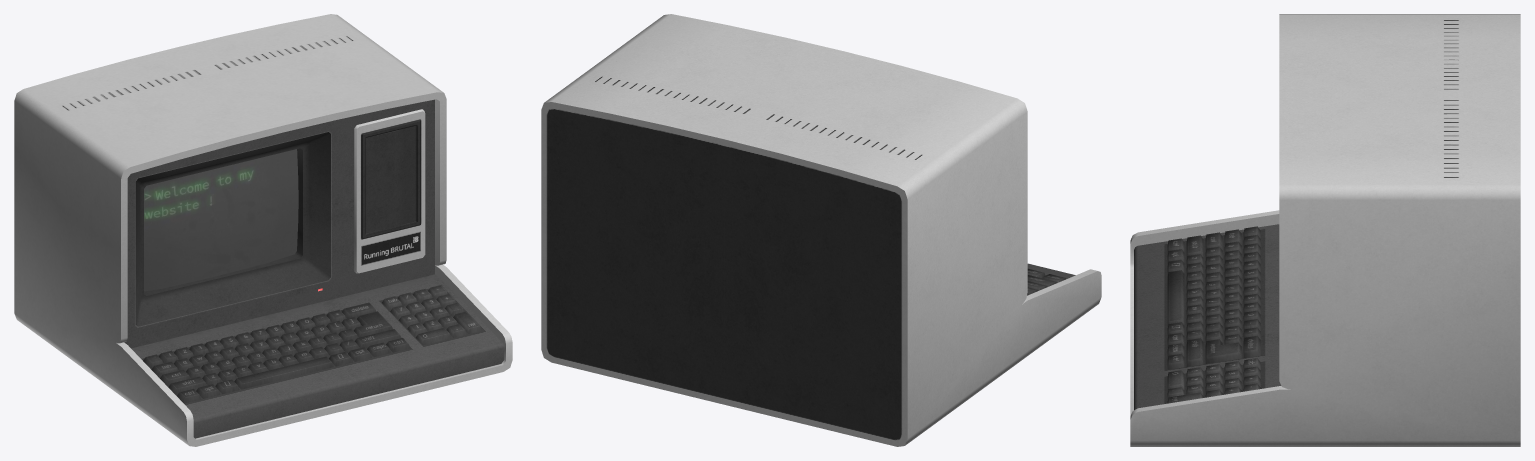
The model's file is computer.gltf.
3 renders of one model, left to right at view 1: azimuth 30°, elevation 25°; view 2: azimuth 150°, elevation 25°; view 3: azimuth 270°, elevation 25°, orthographic. The views are drawn at different scales.
Visible parts, largest first — view 1: Comp_Screen.002, Comp_Screen.000; view 2: Comp_Screen.002, Comp_Screen.000; view 3: Comp_Screen.002, Comp_Screen.000.
Boxes of the visible parts, x1=… form: Comp_Screen.002: x1=14, y1=14, x2=512, y2=446; Comp_Screen.000: x1=143, y1=285, x2=481, y2=403; Comp_Screen.002: x1=541, y1=14, x2=1101, y2=446; Comp_Screen.000: x1=1027, y1=268, x2=1066, y2=295; Comp_Screen.002: x1=1130, y1=14, x2=1520, y2=446; Comp_Screen.000: x1=1167, y1=226, x2=1260, y2=403.
Size of the model in its own units: 1.56 by 1.08 by 1.43.
1 material, 1 textured.
